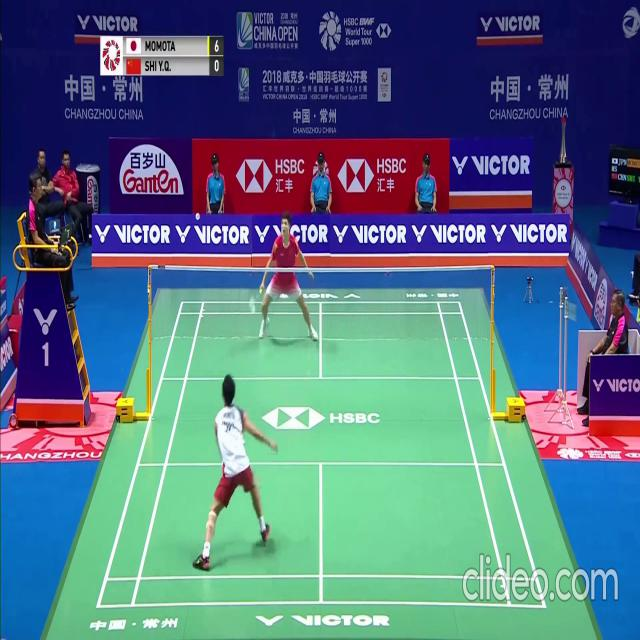Shuttlecock: (195, 213, 200, 221)
